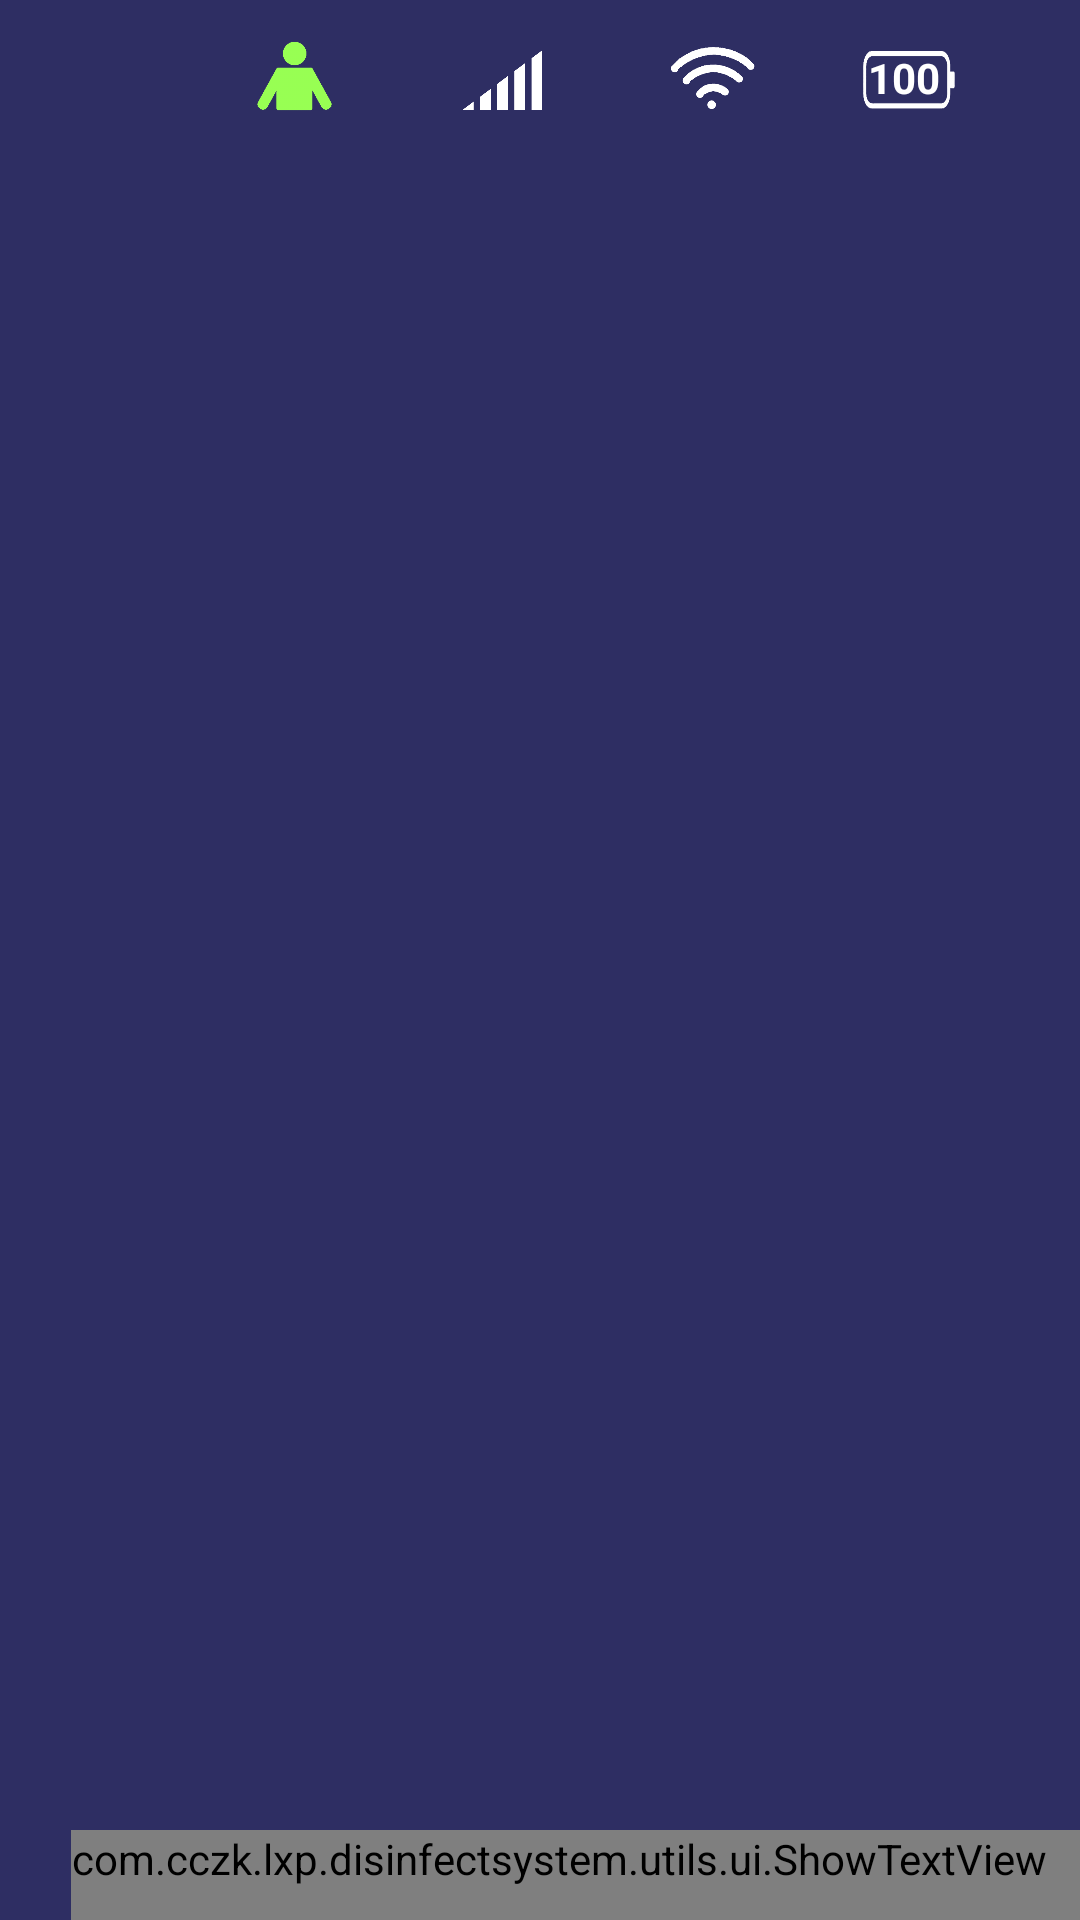

Point at icon controls on the screen. Image size 1080×1920, points as point (x, y).
battery: point (909, 80)
network: point (502, 80)
wifi: point (713, 78)
